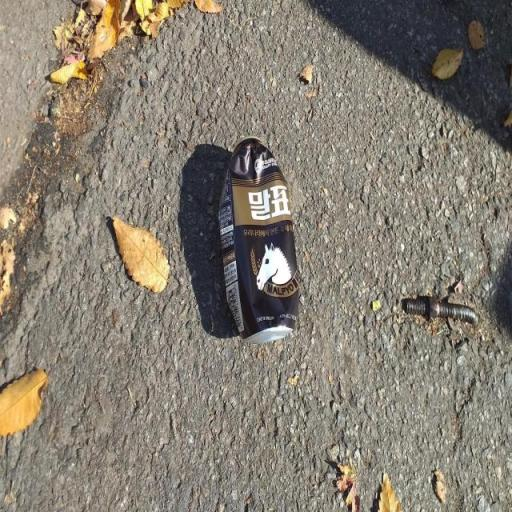metal: (200, 118, 320, 366)
